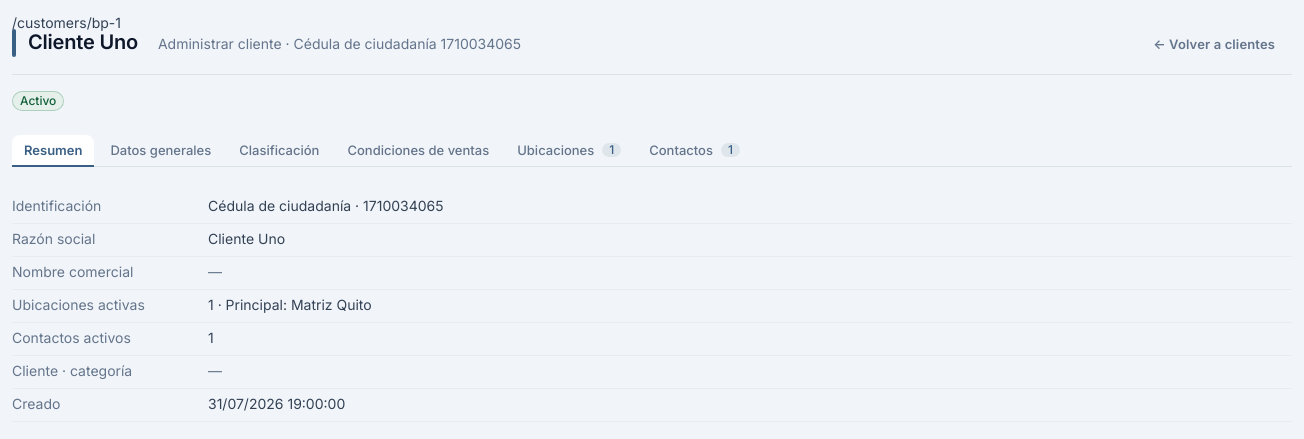
Test case: ficha unificada — navegación y enlaces profundos › elegir una pestaña actualiza ?tab= y muestra solo su panel
Click the tab "Contactos 1".
click(695, 151)  # box [637,135,752,167]
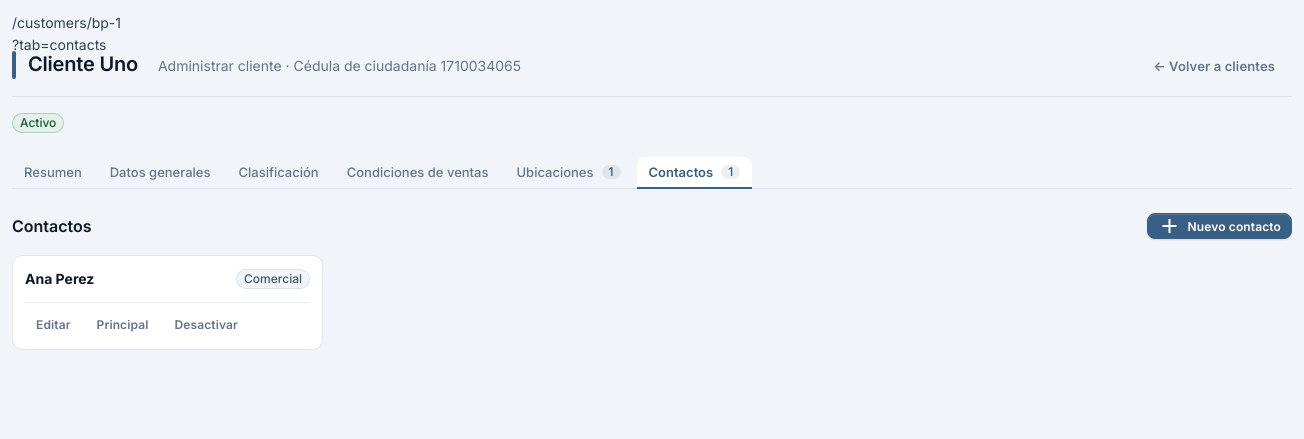
Expected: the text with test id "search" reads "?tab=contacts", [12,36,106,53]
Expected: the text "Ana Perez" is shown, [25,270,94,287]
